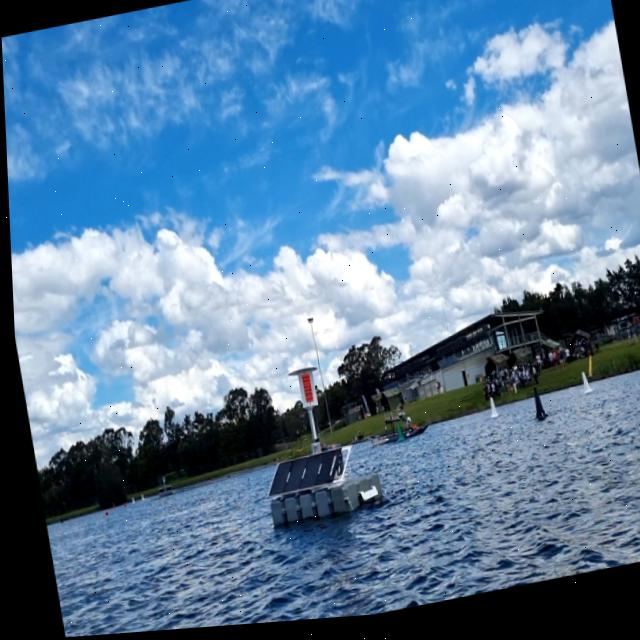led: (294, 374, 313, 411)
